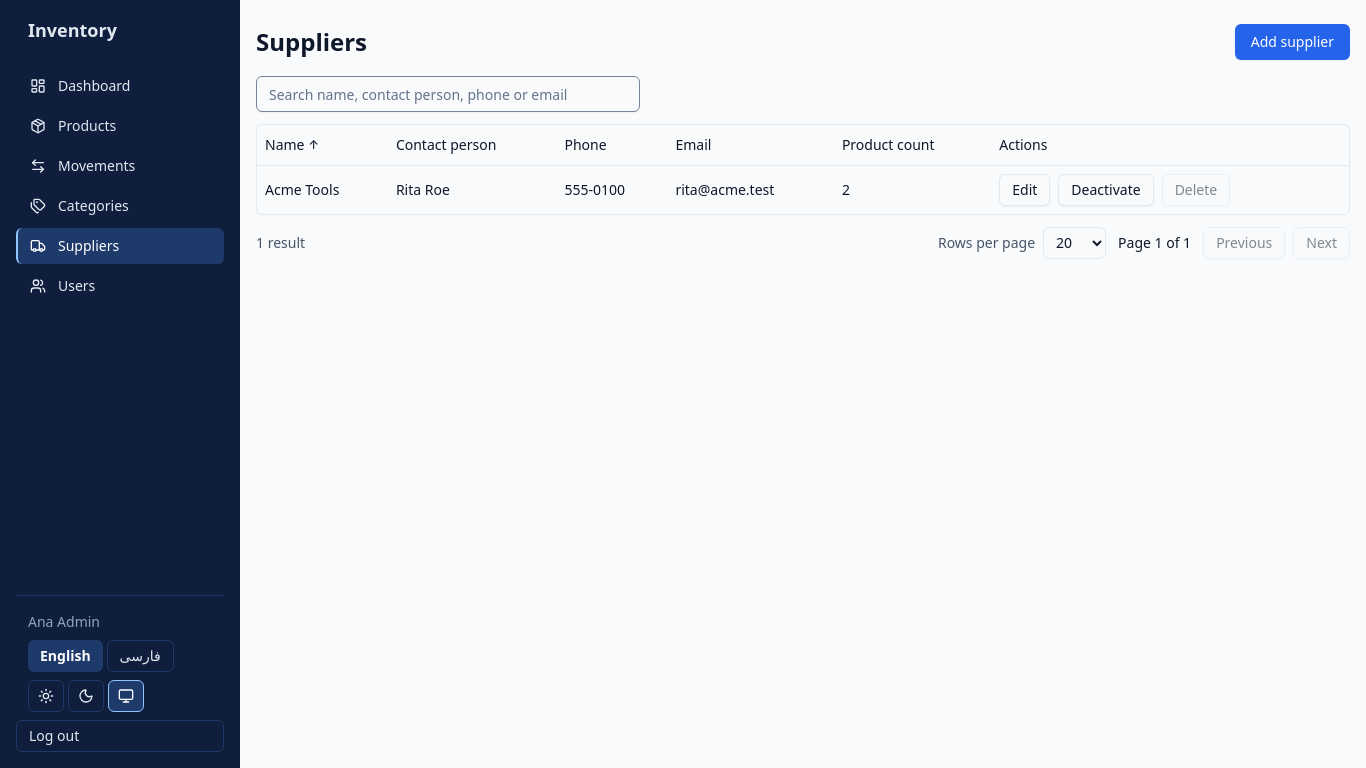
Suppliers page, admin › edits a supplier, starting from its current values, and can clear a field
Click the button with aria-label "Edit Acme Tools".
click(1025, 190)  # box [999,174,1050,206]
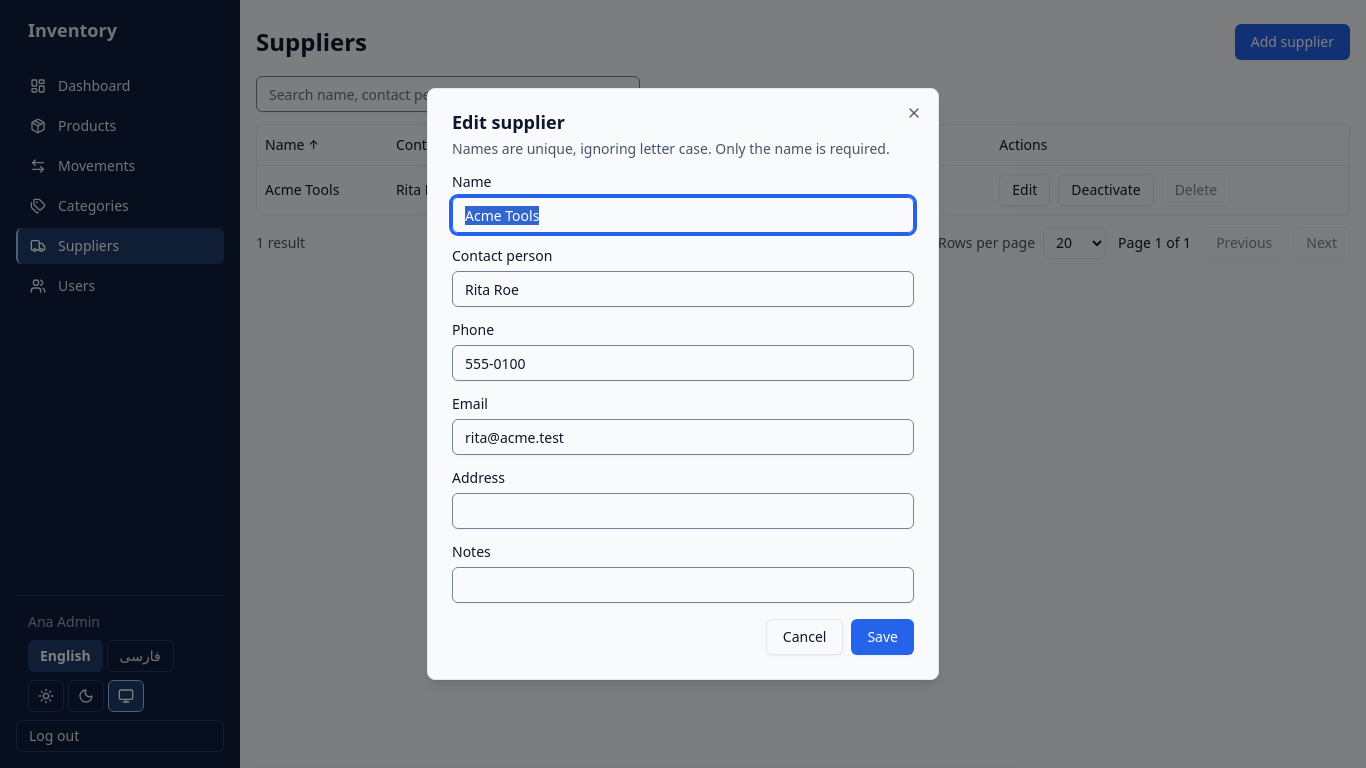
Result: the field labelled "Name" holds "Acme Tools" at [452,197,914,233]
Result: the field labelled "Phone" holds "555-0100"
Clear the field labelled "Phone" at coordinates (683, 363), box [452,345,914,381]
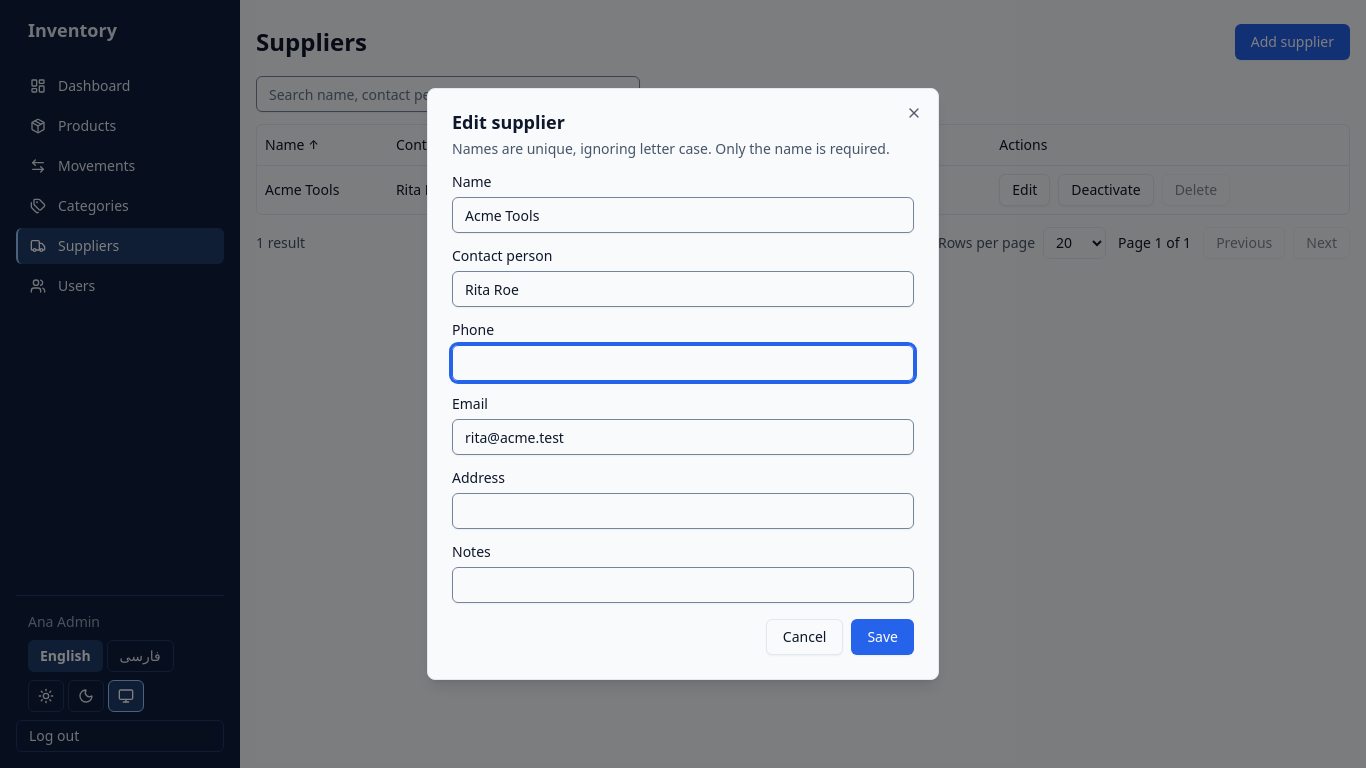
Clear the field labelled "Name" at coordinates (683, 215), box [452,197,914,233]
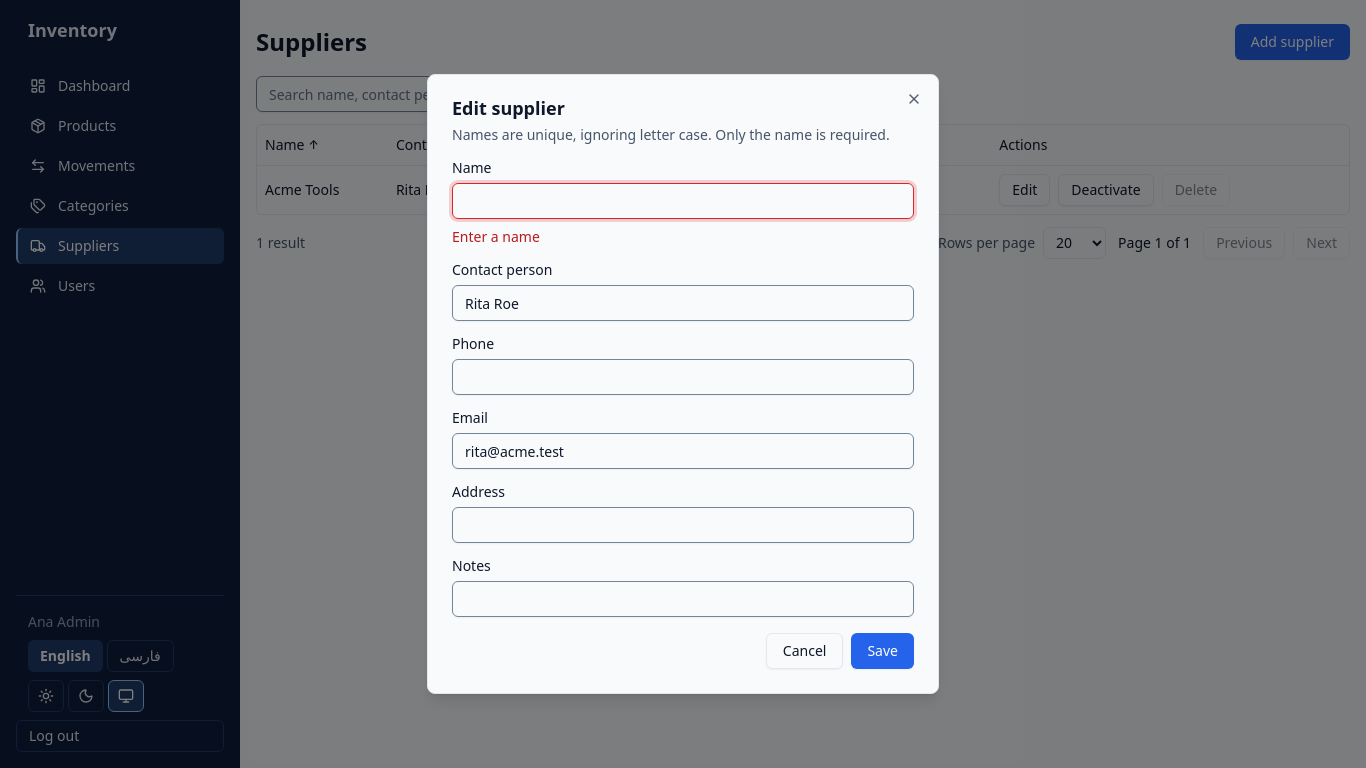
Type "Acme Hardware" into the field labelled "Name".
click(683, 201); type("Acme Hardware")  # box [452,183,914,219]
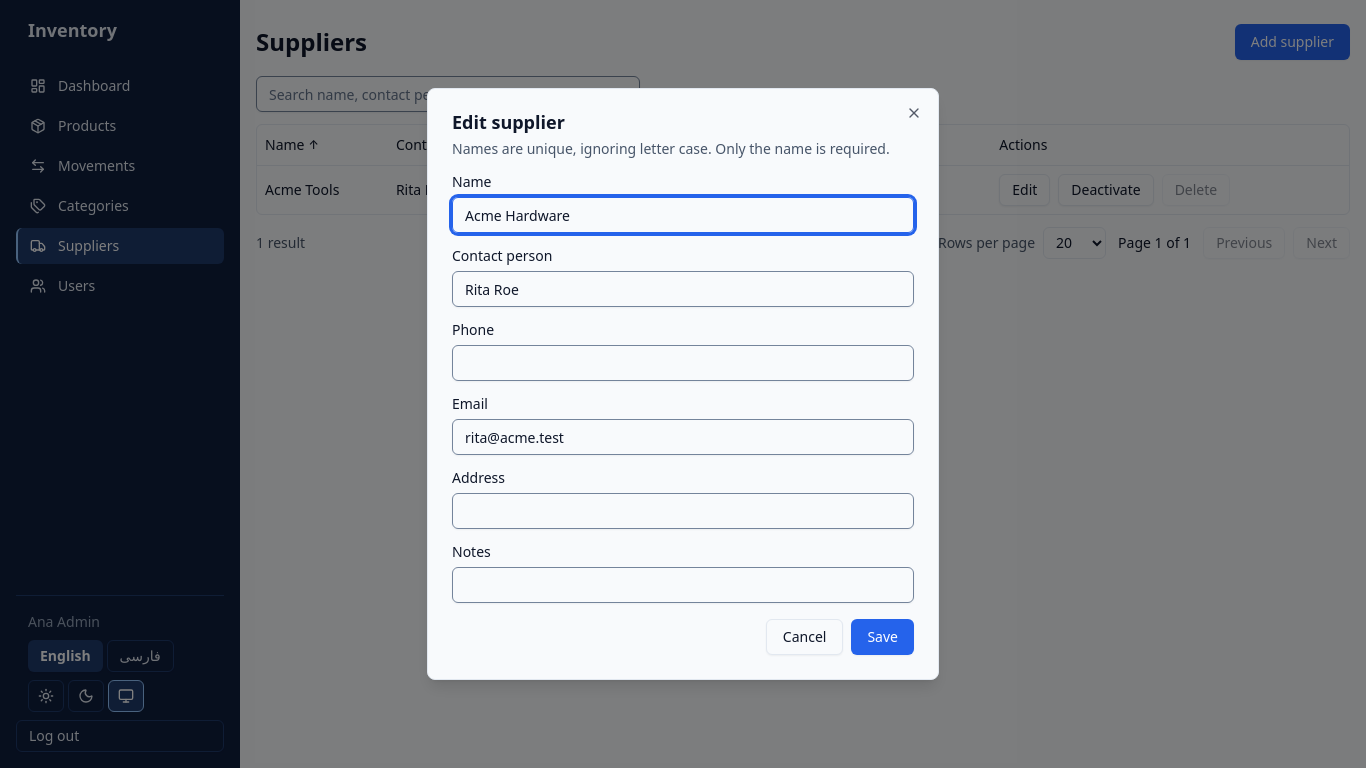
Click the button "Save".
click(883, 637)  # box [851,619,914,655]
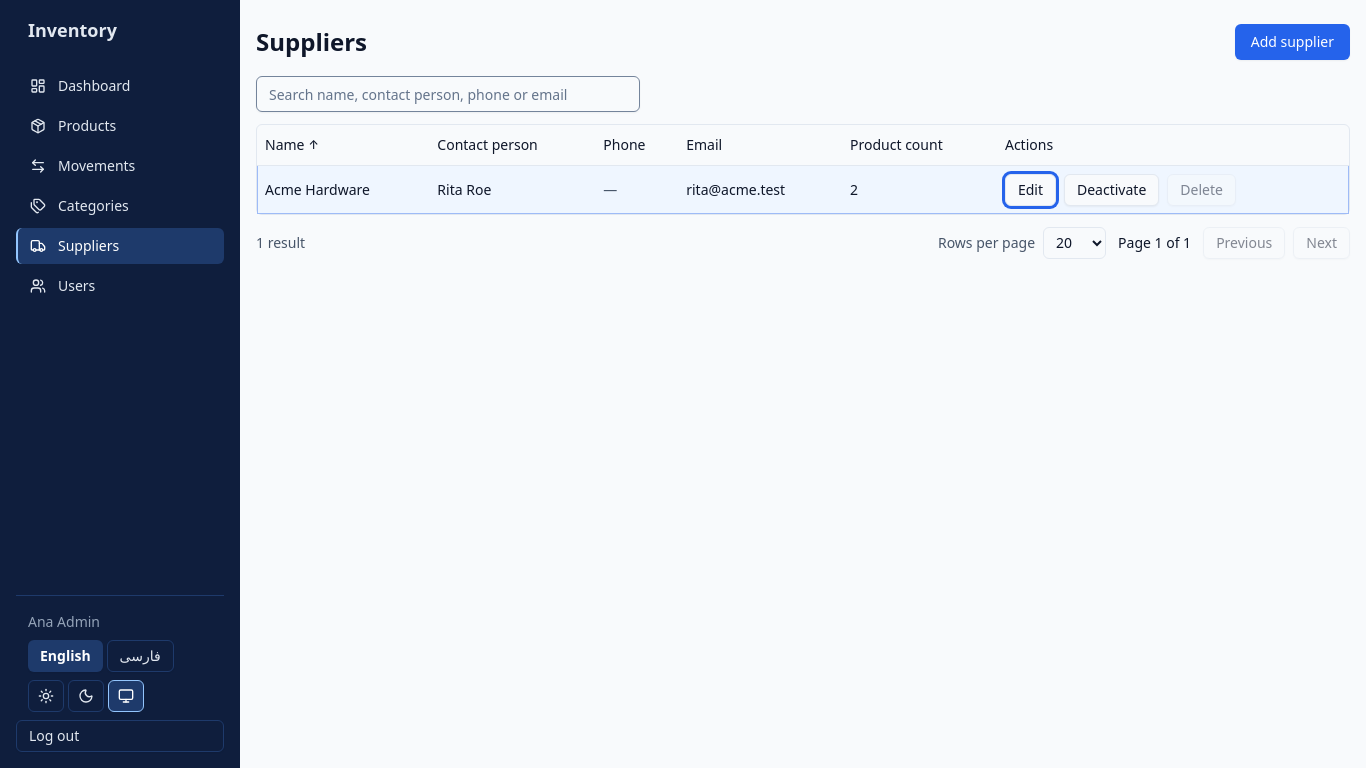
Result: the link "Acme Hardware" is shown at [265,180,370,200]
